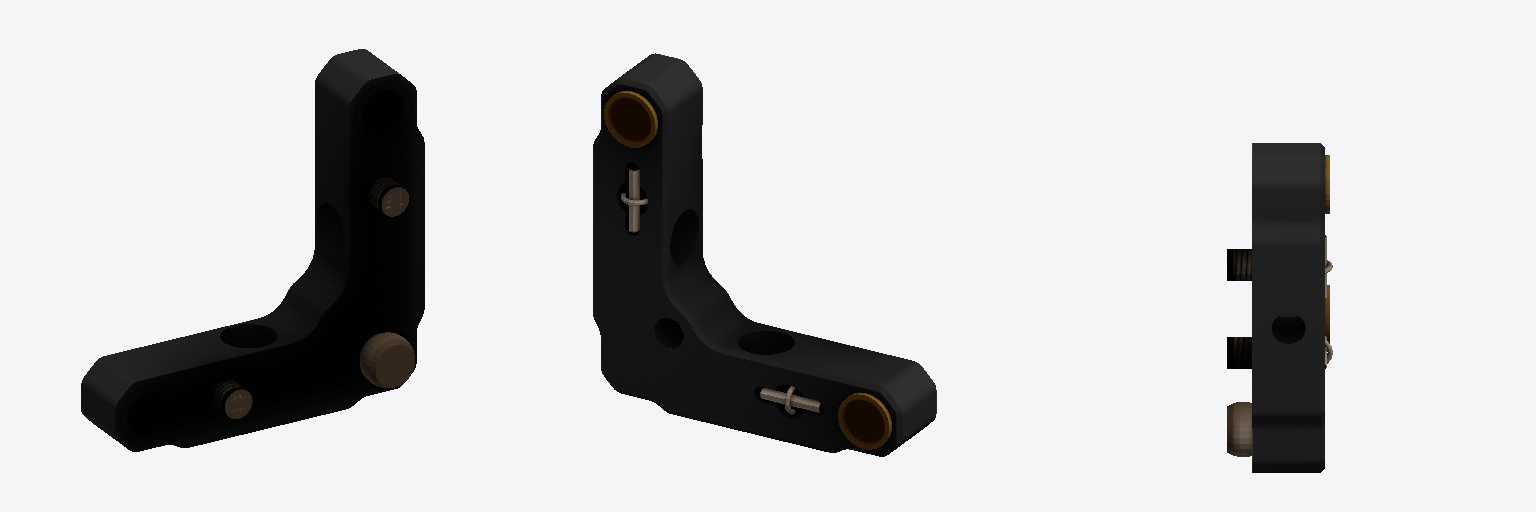
3 views of the same model, side by side, from view 1: azimuth 30°, elevation 25°; view 2: azimuth 150°, elevation 25°; view 3: azimuth 270°, elevation 25° (orthographic).
Parts seen in each view (by area): view 1: KM100_Base:polySurface963; view 2: KM100_Base:polySurface963; view 3: KM100_Base:polySurface963.
Boxes of the visible parts, <box> form: KM100_Base:polySurface963: <box>81,49,424,451</box>; KM100_Base:polySurface963: <box>593,53,936,456</box>; KM100_Base:polySurface963: <box>1227,143,1332,472</box>.
Size of the model in its own units: 49.91 by 49.91 by 14.77.
1 materials, 1 textured.